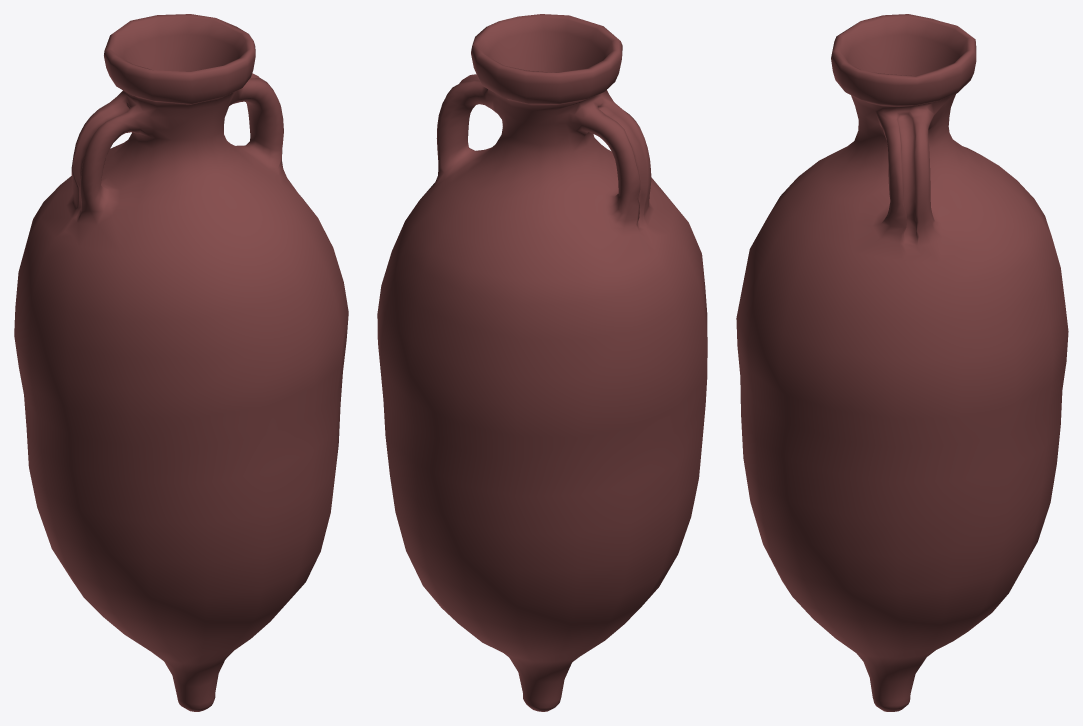
The model's file is Amphora.fbx.
3 renders of one model, left to right at view 1: azimuth 30°, elevation 25°; view 2: azimuth 150°, elevation 25°; view 3: azimuth 270°, elevation 25°, orthographic.
Visible parts, largest first — view 1: Amphora; view 2: Amphora; view 3: Amphora.
Boxes of the visible parts, x1,y1,x2,y2 form: Amphora: (14, 14, 348, 711); Amphora: (377, 14, 707, 711); Amphora: (736, 14, 1068, 711).
Bounding box in the file's own units: 33.91 × 34 × 74.74.
